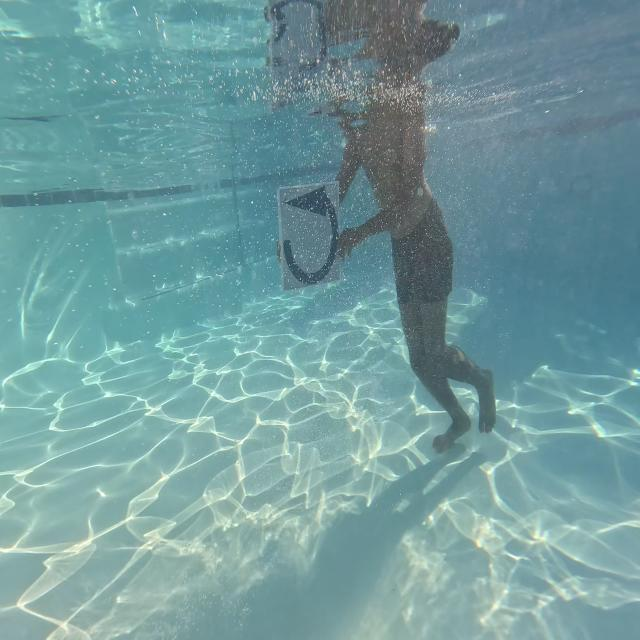blue_side: (275, 181, 344, 287)
